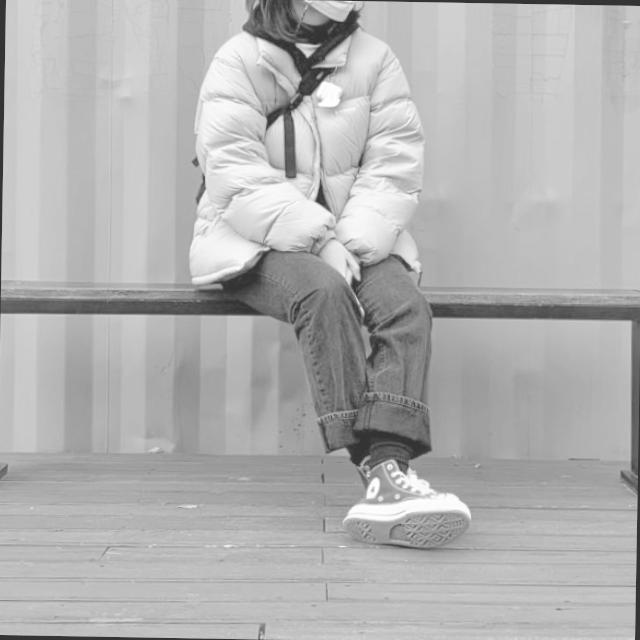denimpants: (219, 242, 438, 460)
padding: (190, 21, 426, 290)
